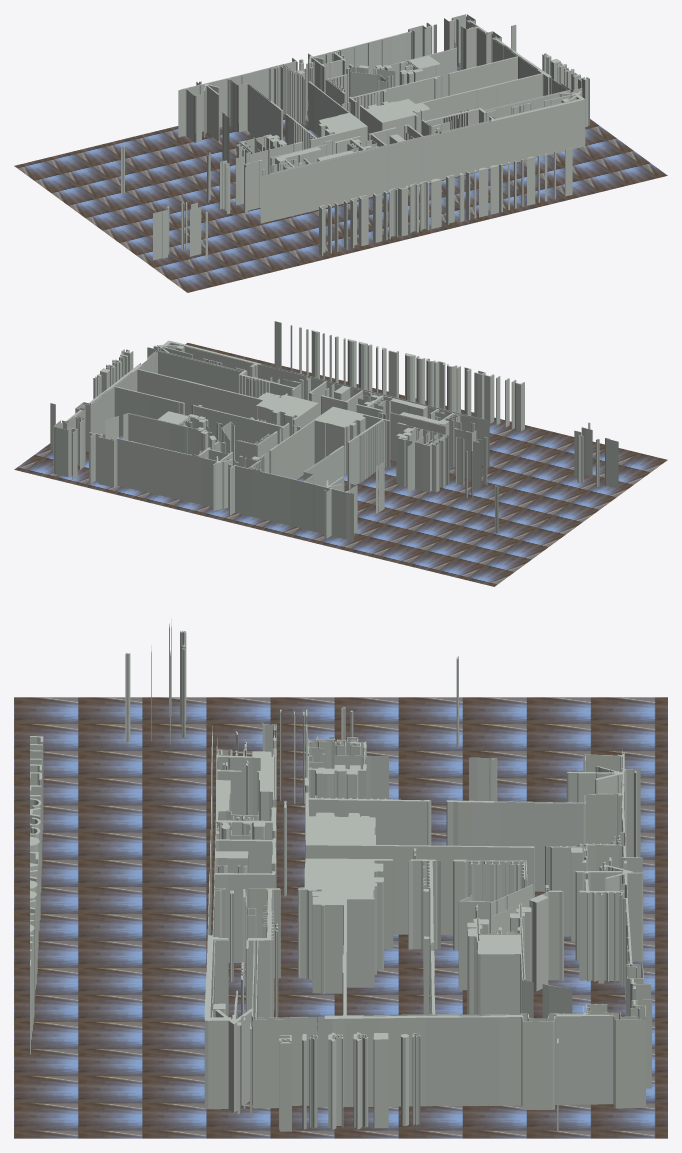
File: lpd_traced.glb
3 renders of one model, top to bottom at view 1: azimuth 30°, elevation 25°; view 2: azimuth 150°, elevation 25°; view 3: azimuth 270°, elevation 25°, orthographic. The views are drawn at different scales.
Visible parts, largest first — view 1: walls, floor; view 2: walls, floor; view 3: floor, walls.
Part boxes in pixels (bbox=[...]): walls: bbox=[121, 14, 589, 260]; floor: bbox=[14, 63, 667, 292]; walls: bbox=[50, 321, 618, 540]; floor: bbox=[14, 342, 667, 586]; floor: bbox=[14, 697, 667, 1138]; walls: bbox=[30, 618, 651, 1131].
Bounding box in the file's own units: 32.6 × 3.05 × 20.41.
1 material, 1 textured.
